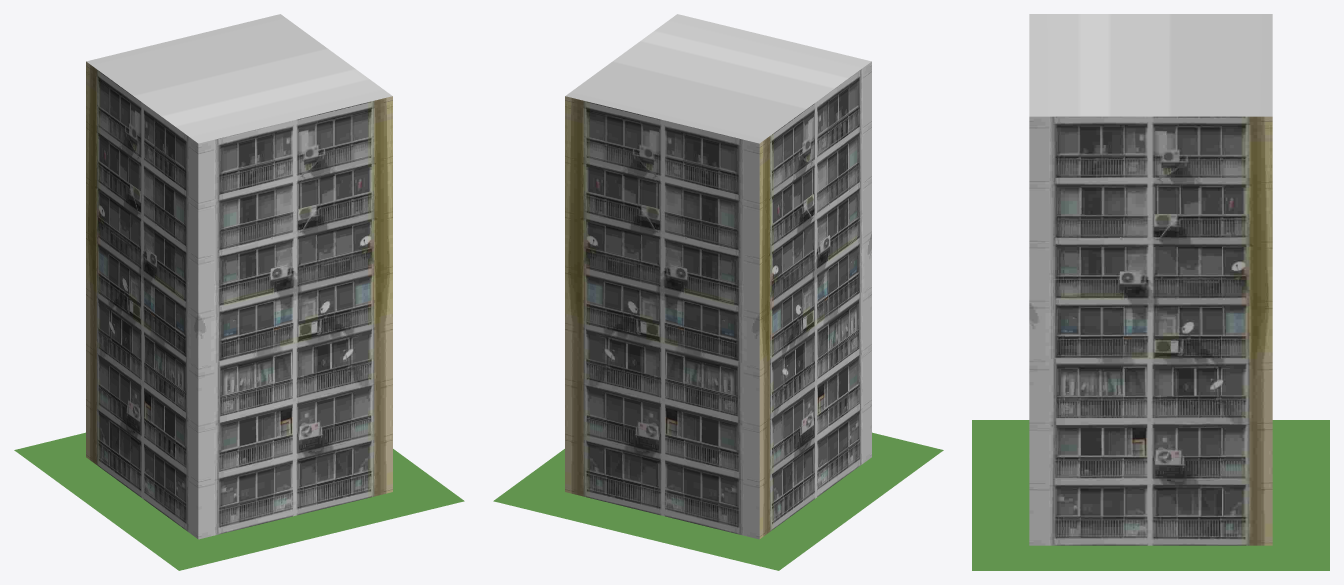
The model's file is Building.003.gltf.
3 views of the same model, side by side, from view 1: azimuth 30°, elevation 25°; view 2: azimuth 150°, elevation 25°; view 3: azimuth 270°, elevation 25° (orthographic). The views are drawn at different scales.
Visible parts, largest first — view 1: Building.003, Plane.003; view 2: Building.003, Plane.003; view 3: Building.003, Plane.003.
Part boxes in pixels (x1,y1,x2,y2): Building.003: [86, 14, 392, 539]; Plane.003: [14, 432, 464, 570]; Building.003: [565, 14, 871, 539]; Plane.003: [493, 432, 943, 570]; Building.003: [1029, 14, 1272, 545]; Plane.003: [972, 420, 1329, 570].
Bounding box in the file's own units: 10.5 × 13.93 × 10.5.
2 materials, 1 textured.
